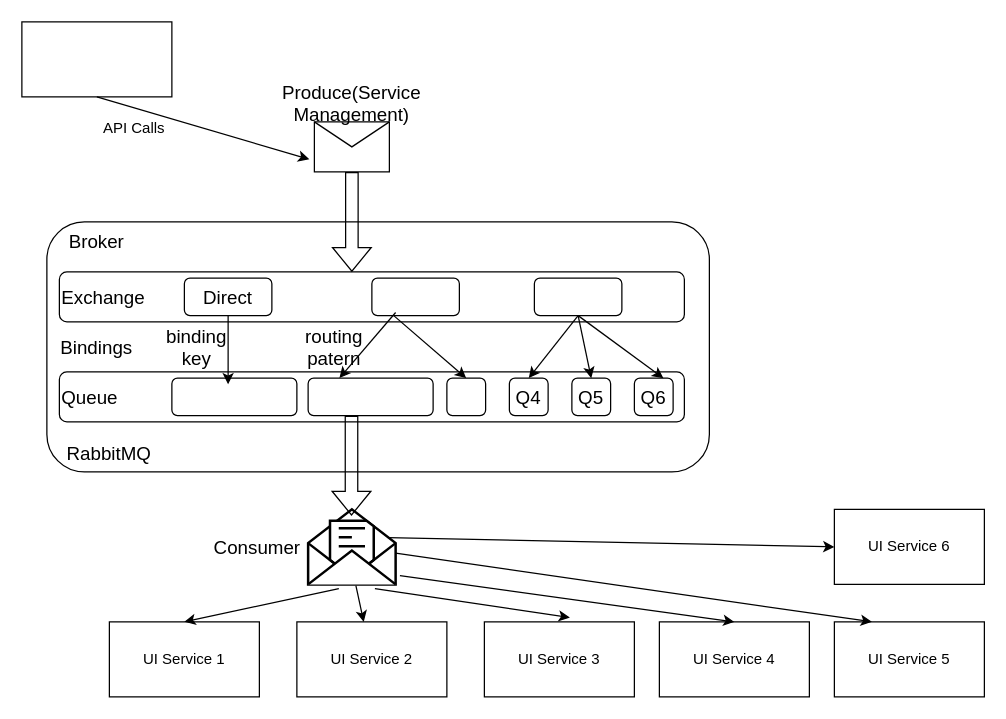
This 1006x719 diagram has some shape labels left out. The box of each missing label's shape, as (x1, y1, x2, y2) in pixels:
Client: (21, 21, 172, 97)
Fanout: (533, 277, 622, 316)
Q3: (446, 377, 486, 416)
Queue 1: (171, 377, 297, 416)
Queue 2: (307, 377, 433, 416)
Topic: (371, 277, 459, 316)
